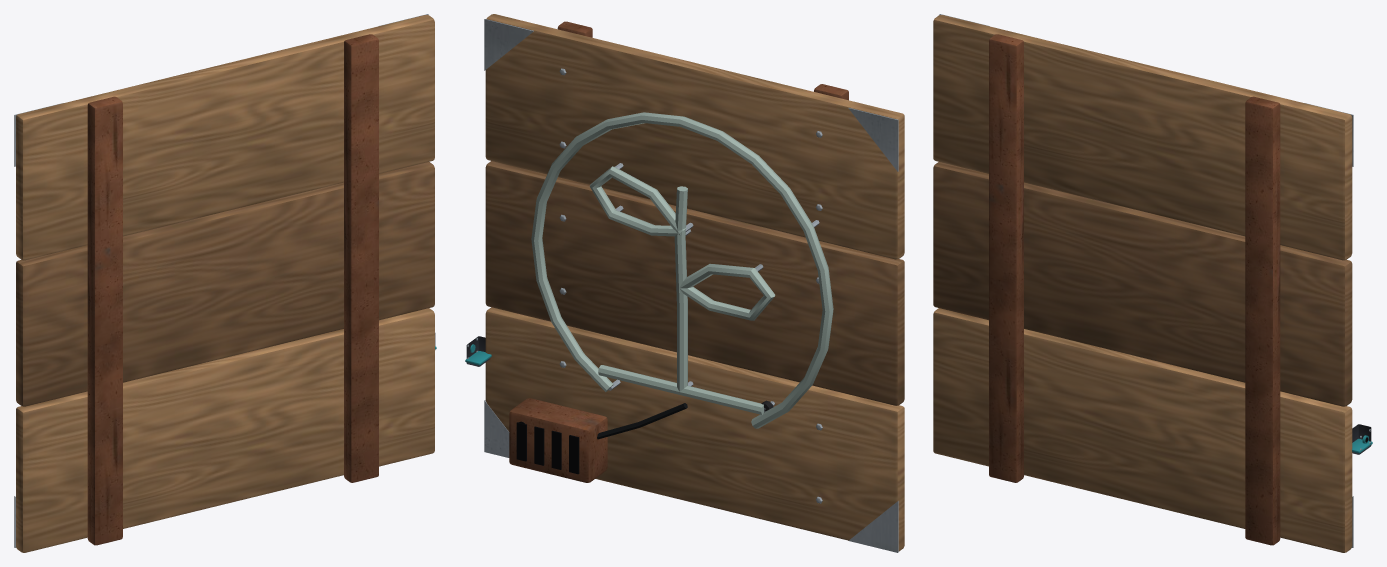
Rendered from neon_sign.glb.
3 views of the same model, side by side, from view 1: azimuth 30°, elevation 25°; view 2: azimuth 150°, elevation 25°; view 3: azimuth 330°, elevation 25° (orthographic).
Parts seen in each view (by area): view 1: Body; view 2: Body; view 3: Body.
Part boxes in pixels (left/top/right/bottom): Body: left=14, top=14, right=436, bottom=552; Body: left=465, top=14, right=904, bottom=552; Body: left=933, top=14, right=1372, bottom=552.
Bounding box in the file's own units: 0.7237 × 0.72 × 0.1115.
Materials: 12 (6 with a texture image).
